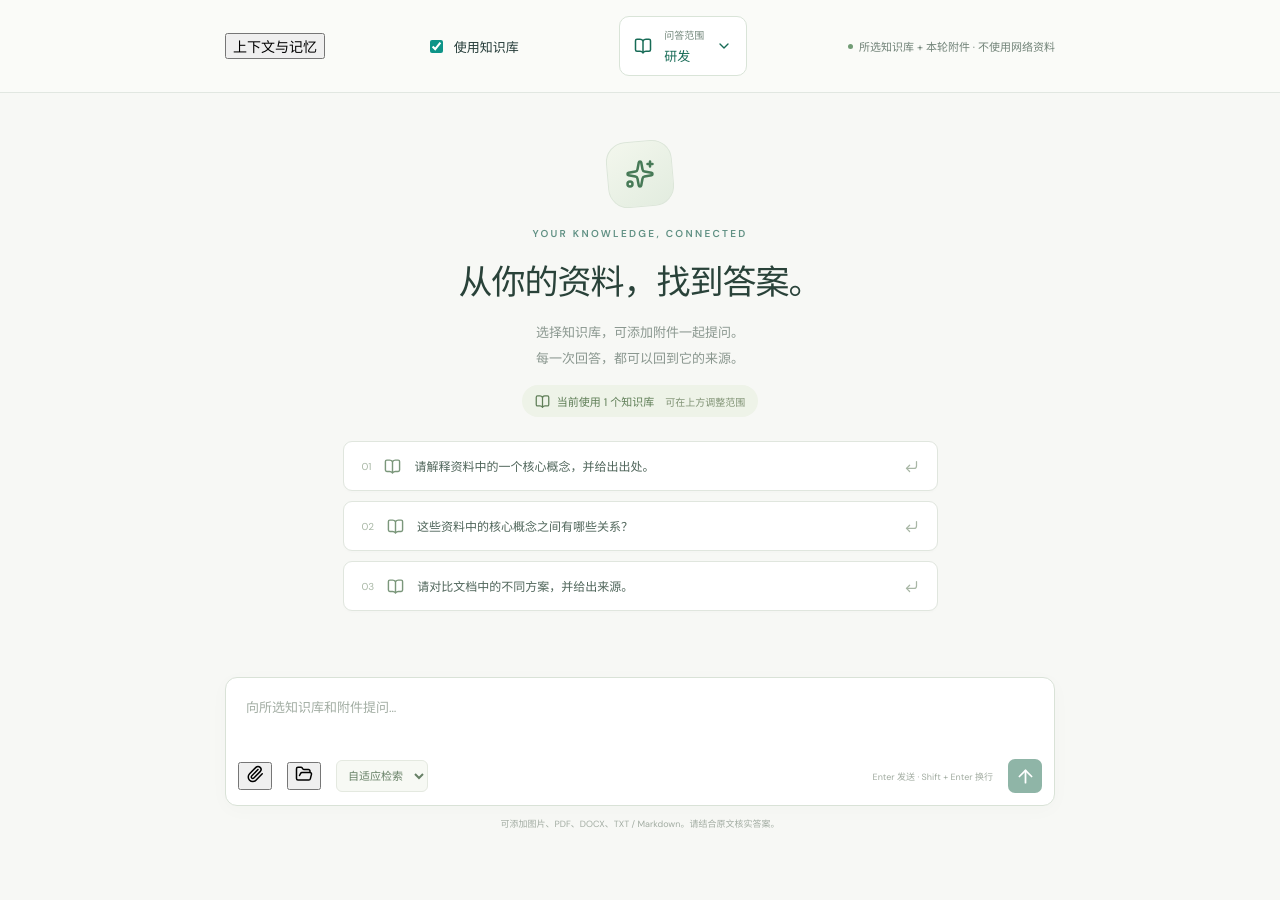
Test: failed knowledge toggle retains the original mode
Check: the heading "从你的资料，找到答案。" is shown, box [458,260,822,305]
Click the checkbox labelled "使用知识库": (436, 46) [430,40,443,52]
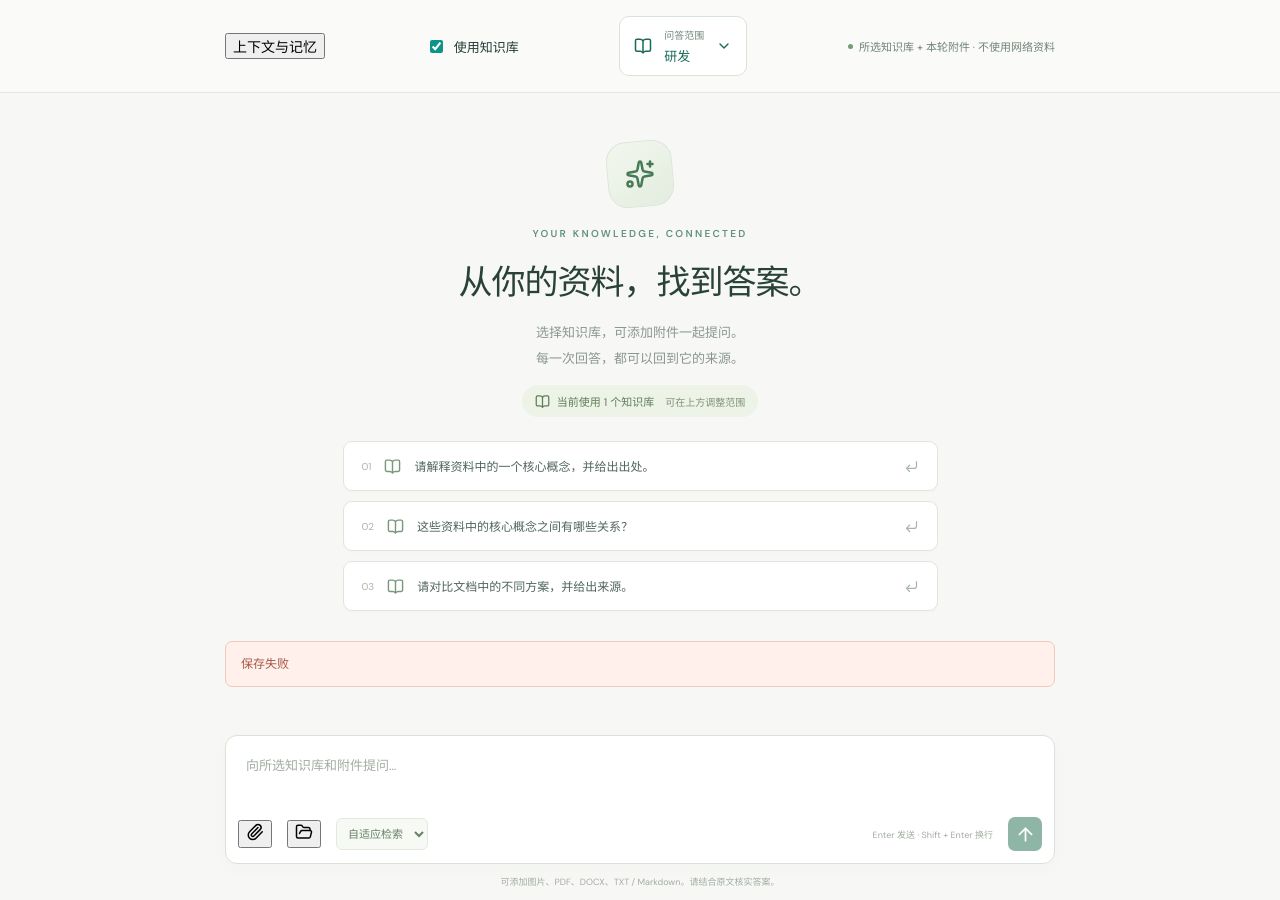
Check: the text "保存失败" is shown, box [225,641,1055,687]
